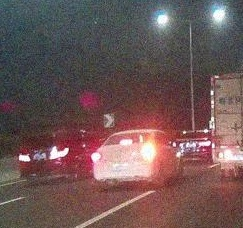L_light: (19, 153, 31, 162), (92, 153, 102, 161)
R_light: (49, 149, 69, 159), (143, 150, 155, 160)
T_light: (121, 139, 132, 144), (47, 135, 55, 137)
night-no: (19, 129, 73, 184)
night-right: (91, 129, 159, 189)
